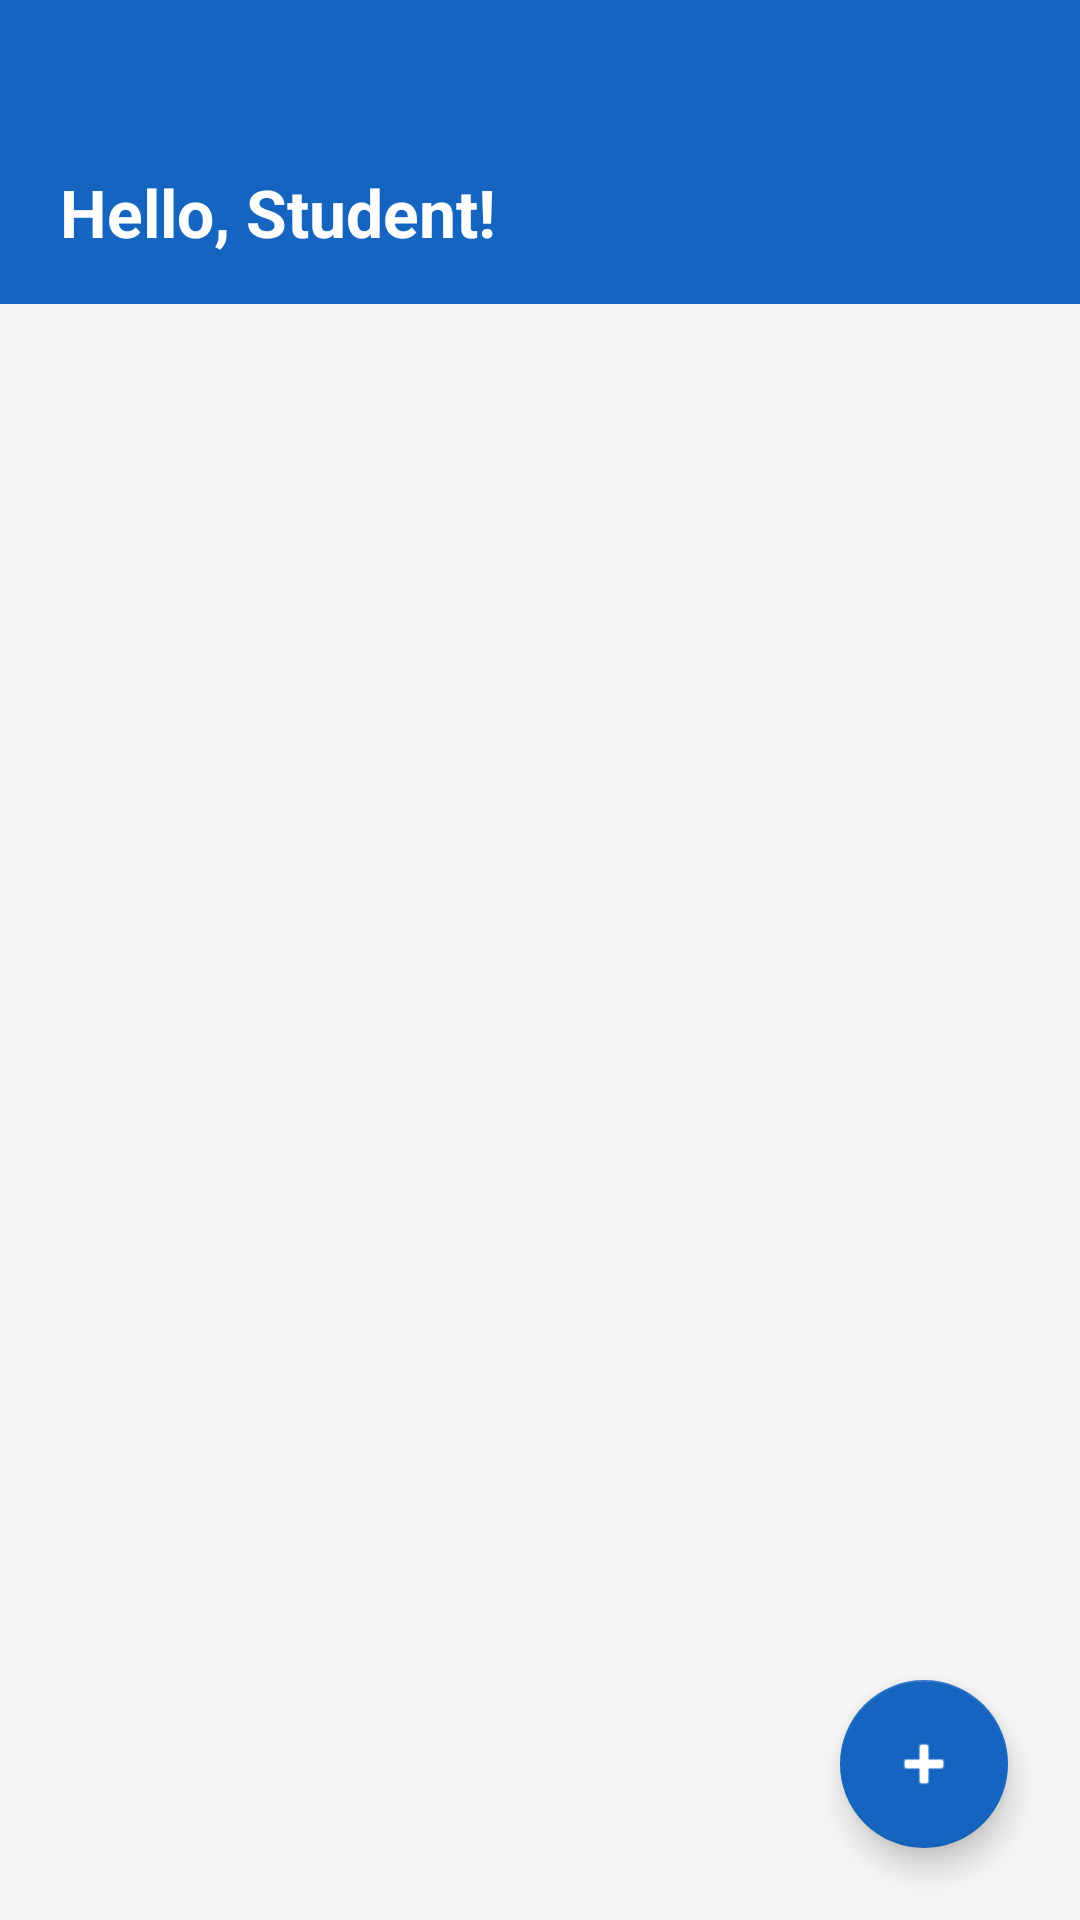

Where icons sit on this 1080*1920 app screen, as {"left": x1, "top": y1, "right": x2, "bottom": y2}:
Add Task: {"left": 840, "top": 1680, "right": 1008, "bottom": 1848}
